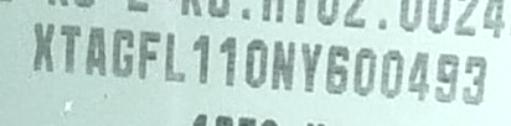letter: (270, 35, 297, 93), (406, 47, 433, 104), (431, 49, 459, 103), (460, 54, 489, 106), (30, 19, 57, 73), (135, 27, 162, 81), (324, 43, 351, 97), (378, 45, 405, 99), (109, 27, 136, 80), (83, 23, 109, 77), (164, 30, 190, 83), (351, 44, 377, 97), (300, 38, 323, 96), (59, 22, 83, 74), (216, 34, 239, 88), (245, 37, 268, 91), (190, 31, 212, 85)
